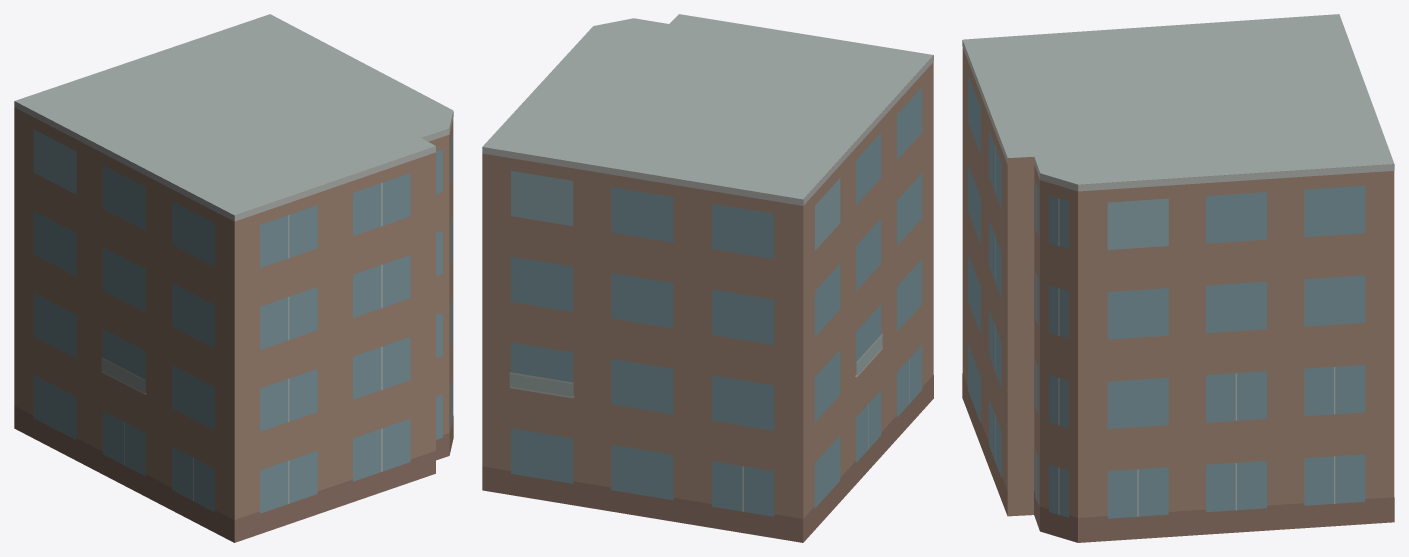
Rendered from survey-upis-32717833.glb.
3 views of the same model, side by side, from view 1: azimuth 30°, elevation 25°; view 2: azimuth 150°, elevation 25°; view 3: azimuth 270°, elevation 25° (orthographic). The views are drawn at different scales.
Parts seen in each view (by area): view 1: survey-upis-32717833.tmp; view 2: survey-upis-32717833.tmp; view 3: survey-upis-32717833.tmp.
Boxes of the visible parts, x1=… form: survey-upis-32717833.tmp: x1=14, y1=14, x2=453, y2=542; survey-upis-32717833.tmp: x1=482, y1=14, x2=933, y2=542; survey-upis-32717833.tmp: x1=962, y1=14, x2=1394, y2=542.
Bounding box in the file's own units: 13.09 × 12.8 × 14.
